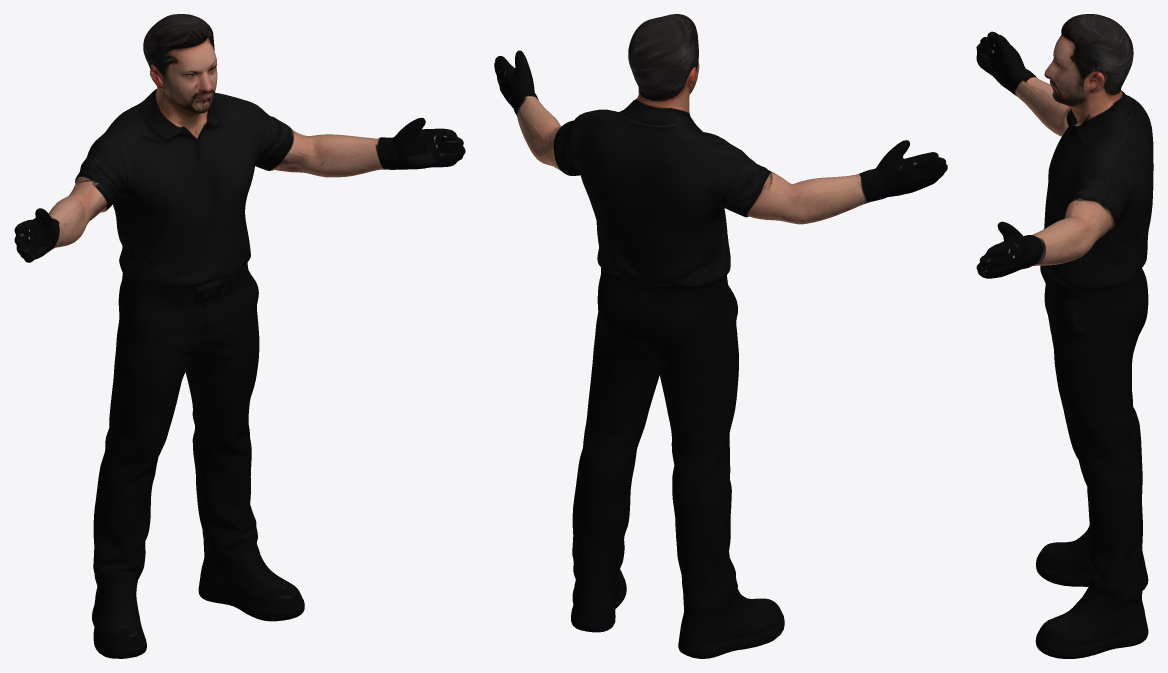
Rendered from official_referee.obj.
3 views of the same model, side by side, from view 1: azimuth 30°, elevation 25°; view 2: azimuth 150°, elevation 25°; view 3: azimuth 270°, elevation 25° (orthographic). The views are drawn at different scales.
Parts seen in each view (by area): view 1: textured_mesh; view 2: textured_mesh; view 3: textured_mesh.
Boxes of the visible parts, x1,y1,x2,y2 form: textured_mesh: (14, 14, 465, 658); textured_mesh: (494, 14, 947, 658); textured_mesh: (976, 14, 1153, 658).
Bounding box in the file's own units: 1.54 × 1.99 × 0.5388.
1 material, 1 textured.
